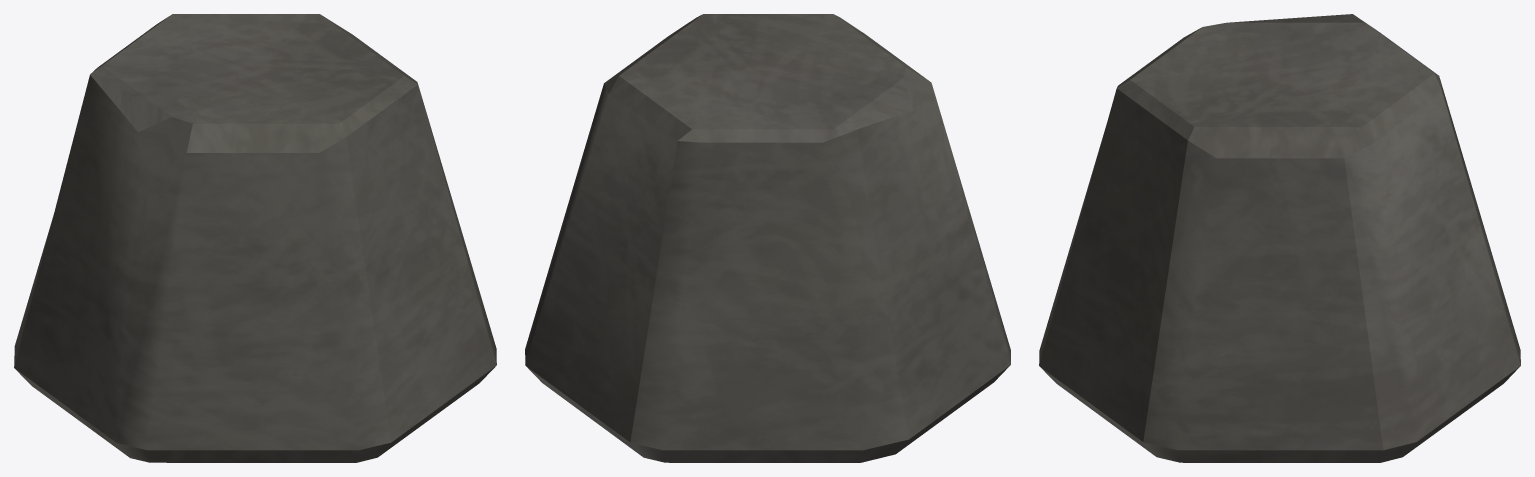
Rendered from ZachMesaRock12.fbx.
3 renders of one model, left to right at view 1: azimuth 30°, elevation 25°; view 2: azimuth 150°, elevation 25°; view 3: azimuth 270°, elevation 25°, orthographic.
Visible parts, largest first — view 1: ZachMesaRock12; view 2: ZachMesaRock12; view 3: ZachMesaRock12.
Boxes of the visible parts, x1=… form: ZachMesaRock12: x1=14, y1=14, x2=496, y2=462; ZachMesaRock12: x1=525, y1=14, x2=1010, y2=462; ZachMesaRock12: x1=1039, y1=14, x2=1520, y2=462.
Bounding box in the file's own units: 2.6 × 2 × 2.88.
